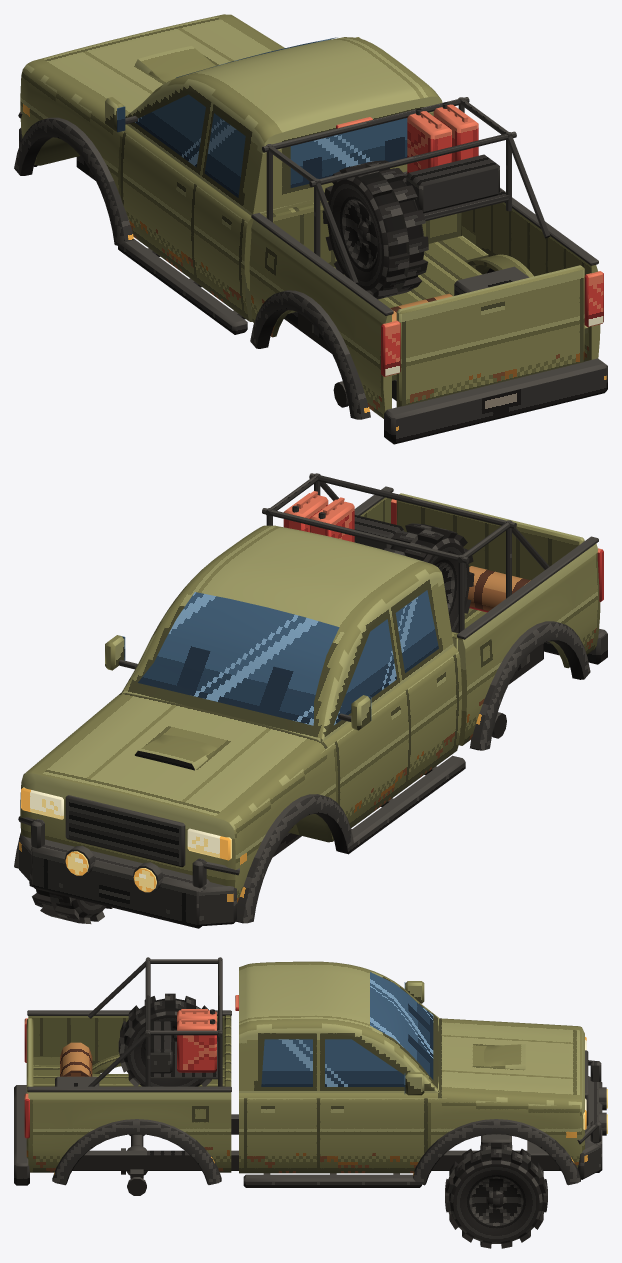
File: taco.glb
3 renders of one model, top to bottom at view 1: azimuth 30°, elevation 25°; view 2: azimuth 150°, elevation 25°; view 3: azimuth 270°, elevation 25°, orthographic. The views are drawn at different scales.
Parts seen in each view (by area): view 1: Body; view 2: Body, Wheel; view 3: Body, Wheel, AxleRear.
Part boxes in pixels (left/top/right/bottom): Body: left=14, top=14, right=607, bottom=444; Body: left=14, top=473, right=607, bottom=928; Wheel: left=29, top=881, right=112, bottom=923; Body: left=14, top=957, right=607, bottom=1187; Wheel: left=445, top=1142, right=547, bottom=1248; AxleRear: left=121, top=1134, right=147, bottom=1195.
Bounding box in the file's own units: 2.03 × 2.14 × 5.36.
7 materials, 7 textured.
